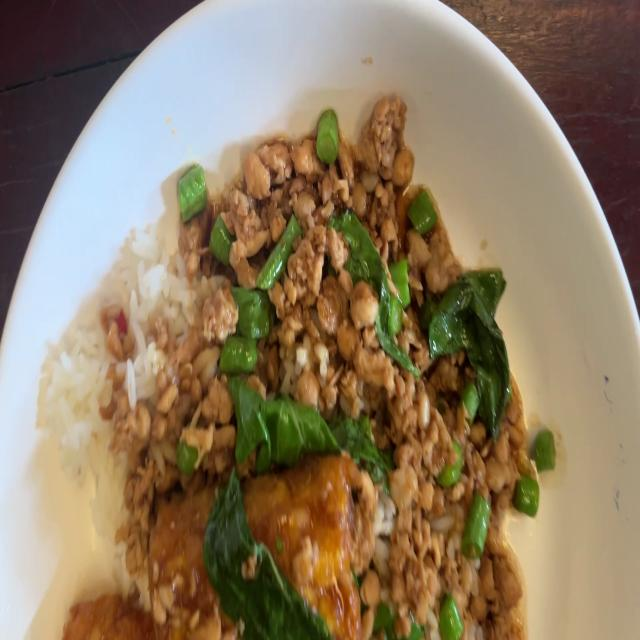01rice: (44, 316, 94, 472), (130, 212, 175, 384), (90, 437, 122, 538)
fried_tofo: (161, 460, 358, 640), (66, 591, 153, 640)
minced_pork: (180, 93, 529, 459), (363, 451, 543, 640)
stir_fried_basil: (39, 91, 552, 640)
